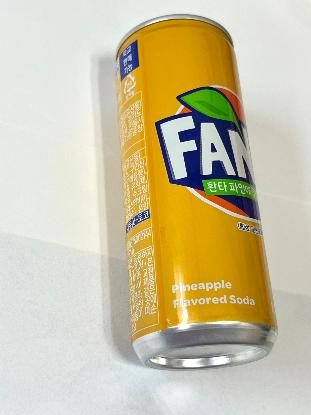Can: (113, 10, 284, 375)
